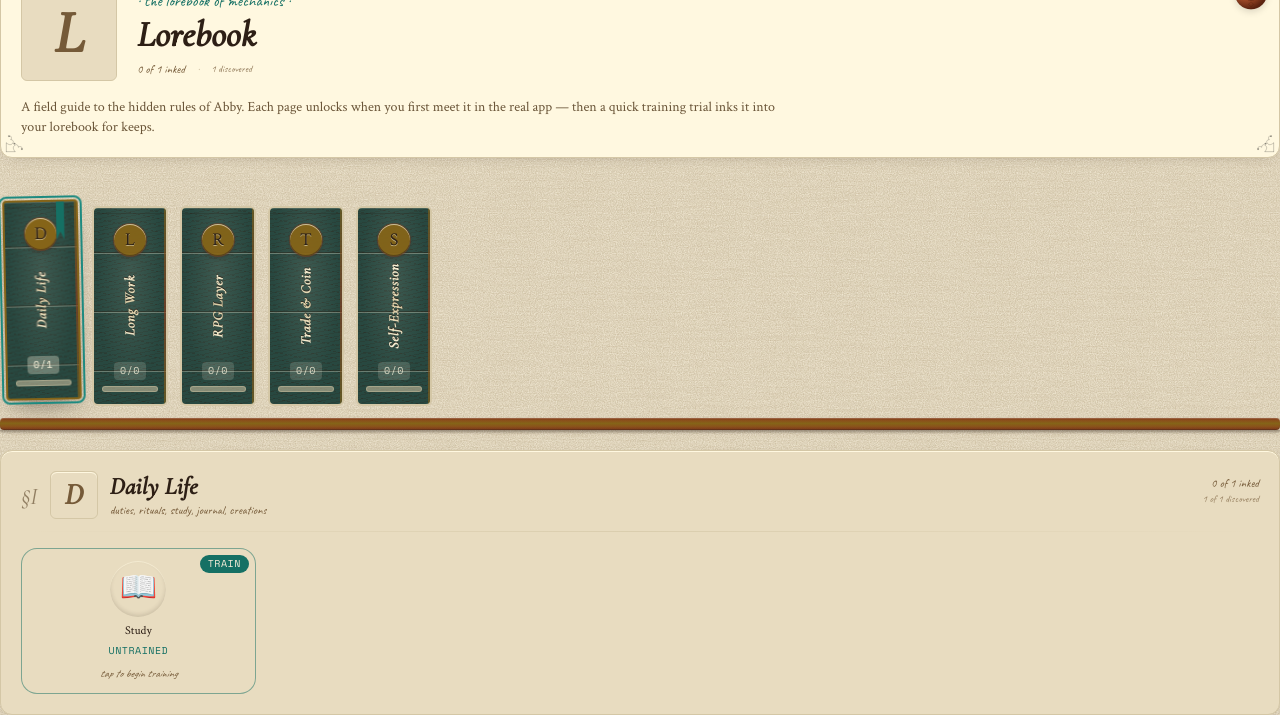
Test case: Lorebook trial flow › opens the trial sheet on encountered tile click
(page scrolled)
Click the button with aria-label "study · ready to train" at (138, 621), box x1=21 y1=548 x2=256 y2=694
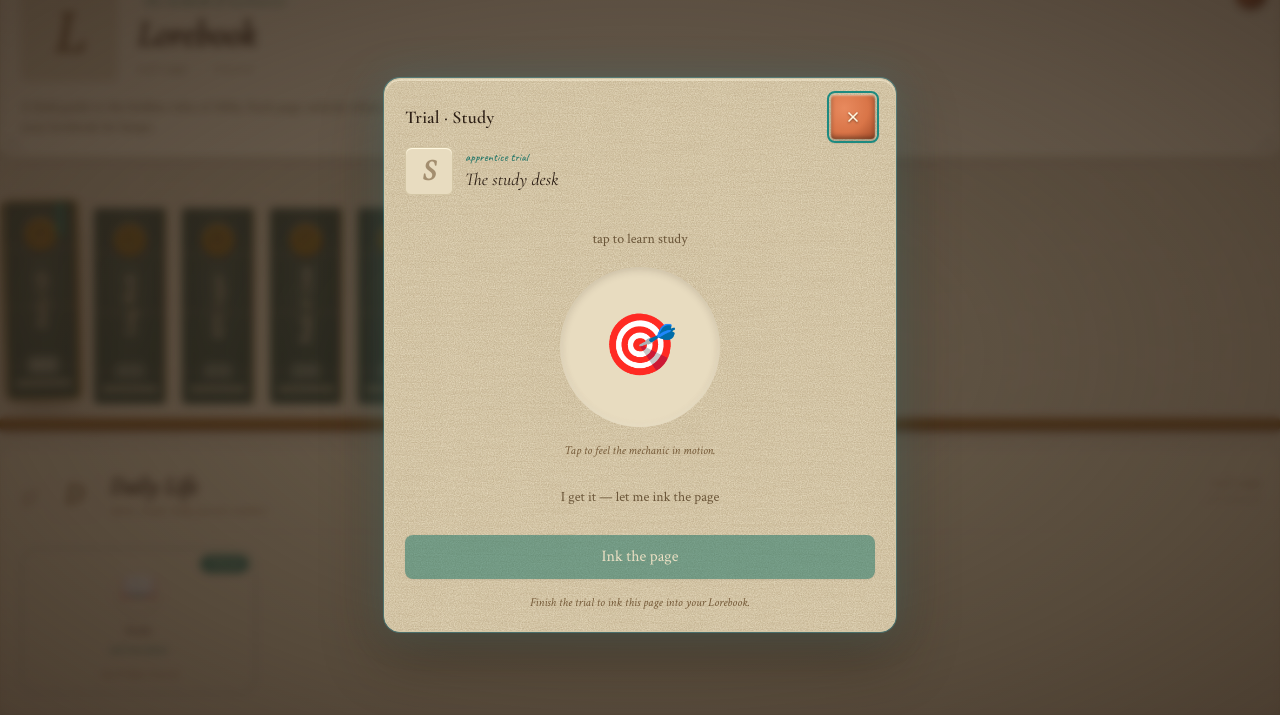
Now the dialog "Trial · Study" is shown, box x1=384 y1=78 x2=896 y2=632
